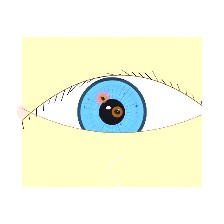foreign_body_visible: (93, 90, 113, 107)
